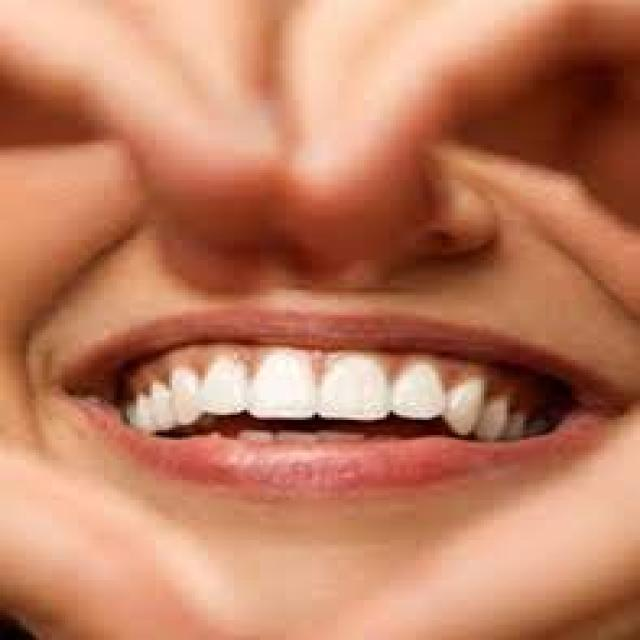tooth: (254, 352, 315, 418), (322, 358, 383, 418), (393, 368, 442, 412), (205, 360, 247, 410), (172, 370, 198, 422), (452, 385, 478, 433), (152, 383, 178, 425), (124, 395, 146, 427), (514, 410, 540, 435), (491, 395, 506, 433)
